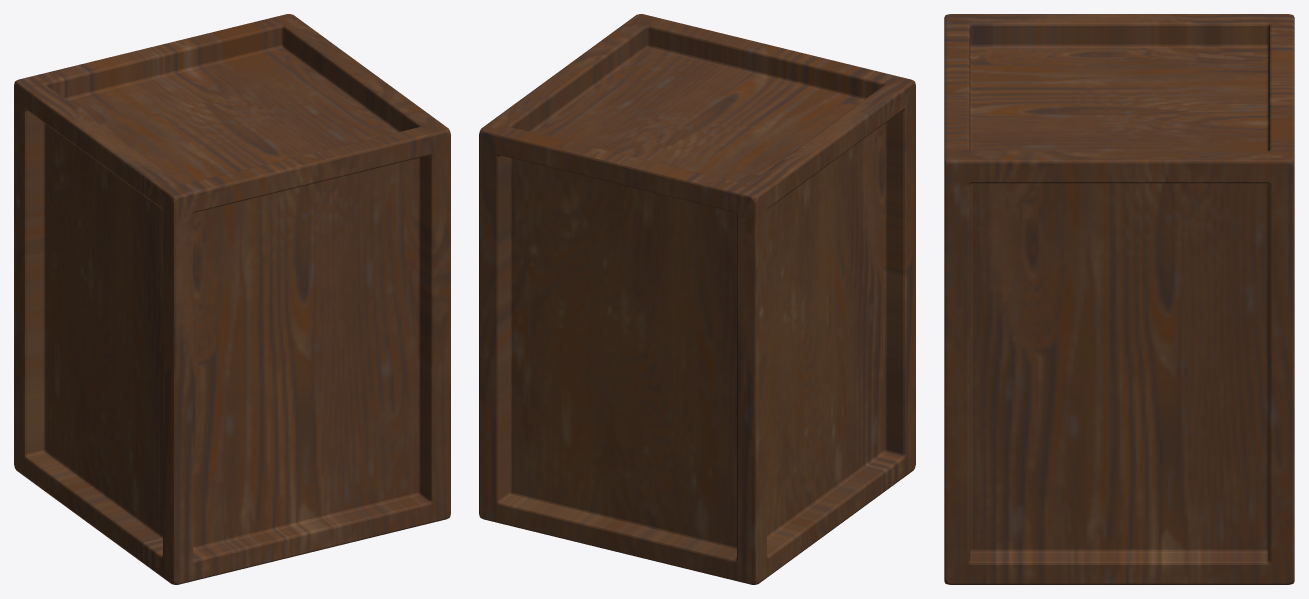
The model's file is Cube_Fast.fbx.
3 views of the same model, side by side, from view 1: azimuth 30°, elevation 25°; view 2: azimuth 150°, elevation 25°; view 3: azimuth 270°, elevation 25° (orthographic). The views are drawn at different scales.
Visible parts, largest first — view 1: Cube.001; view 2: Cube.001; view 3: Cube.001.
Part boxes in pixels (x1,y1,x2,y2): Cube.001: (14, 14, 450, 584); Cube.001: (479, 14, 915, 584); Cube.001: (944, 14, 1294, 584).
Bounding box in the file's own units: 1 × 1.34 × 1.
Materials: 1 (1 with a texture image).
